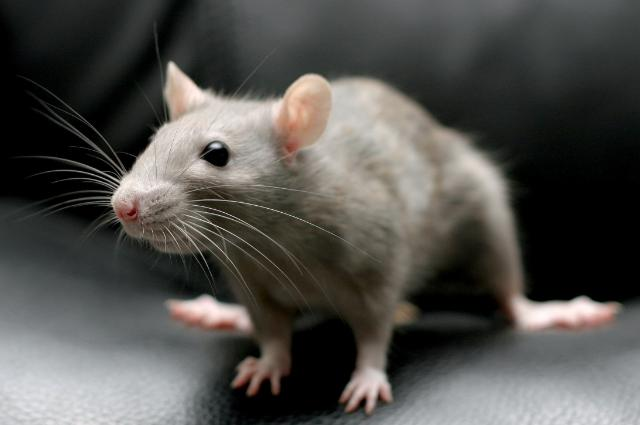rat: (66, 42, 487, 424)
